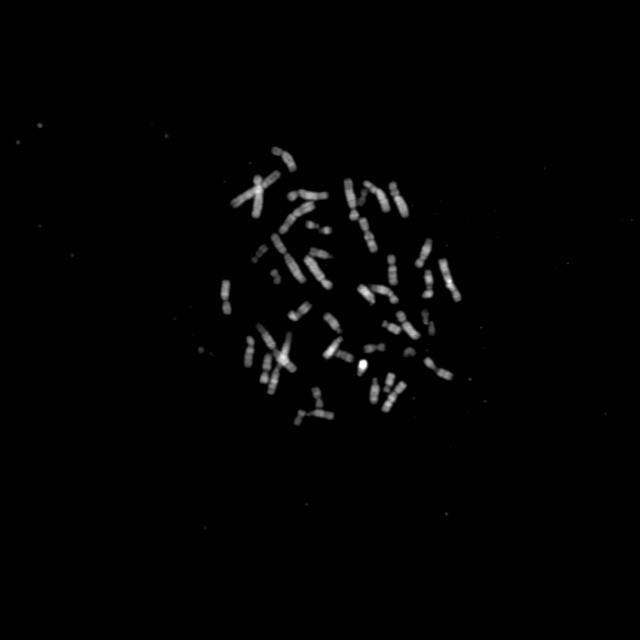chromosome: (270, 232, 308, 288), (256, 323, 298, 372), (231, 170, 281, 210), (268, 332, 292, 396), (278, 200, 314, 234), (438, 256, 460, 302), (304, 256, 332, 290), (364, 180, 392, 212), (382, 381, 408, 413), (388, 180, 408, 218), (270, 146, 298, 172), (396, 310, 420, 340), (358, 218, 378, 252), (424, 358, 454, 380), (287, 188, 328, 204), (344, 178, 358, 220), (415, 236, 433, 268), (250, 175, 262, 219), (370, 285, 398, 303), (288, 302, 312, 322), (242, 334, 256, 368), (421, 310, 437, 338), (305, 220, 331, 237), (322, 337, 343, 358), (220, 280, 232, 316), (304, 408, 334, 422), (358, 284, 377, 306), (325, 312, 343, 334), (420, 270, 434, 298), (260, 352, 272, 383), (387, 254, 399, 284), (252, 244, 268, 264), (380, 320, 400, 336), (312, 385, 324, 411), (310, 247, 332, 261), (368, 377, 379, 405), (360, 342, 386, 353), (334, 348, 354, 362), (383, 371, 395, 393), (292, 410, 306, 426), (401, 346, 417, 359), (356, 190, 368, 206), (357, 359, 368, 376), (270, 270, 280, 284)
